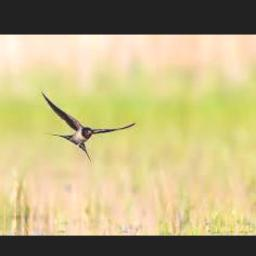Swallow: (42, 92, 137, 159)
